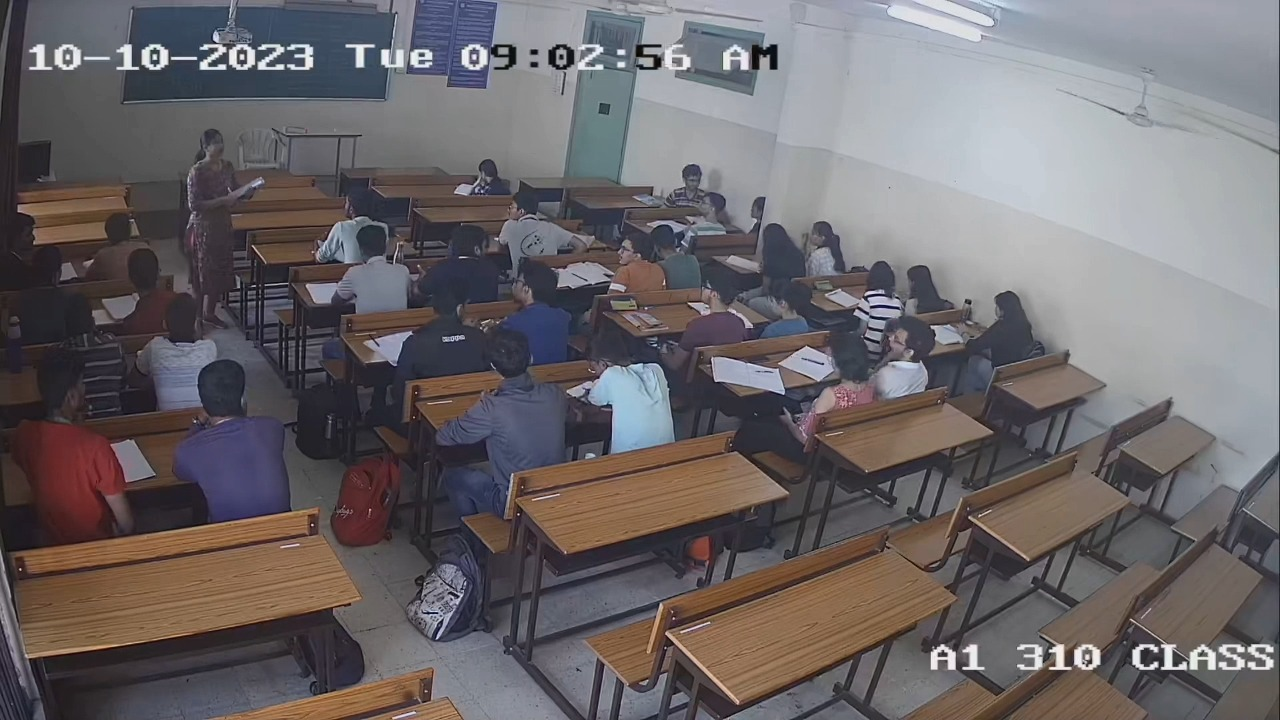cell-phones: (607, 295, 639, 312), (741, 354, 772, 364), (813, 278, 835, 292)
person: (679, 272, 746, 343), (812, 335, 872, 413), (855, 261, 905, 321)
